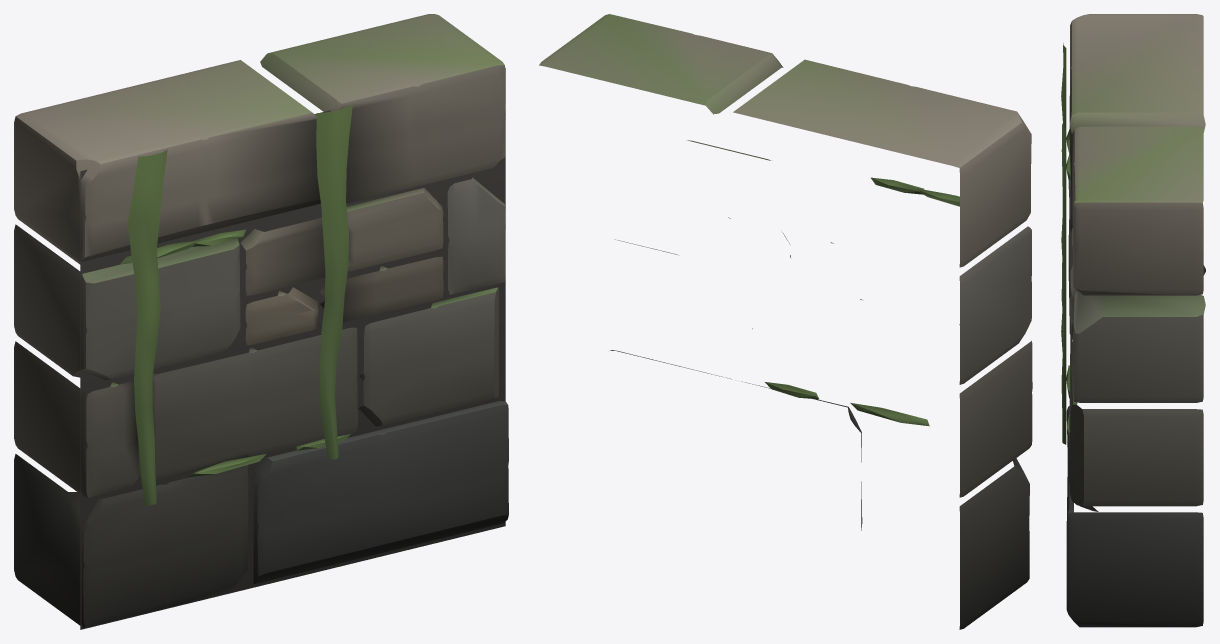
The model's file is ruins-wall-damp-v3.glb.
3 views of the same model, side by side, from view 1: azimuth 30°, elevation 25°; view 2: azimuth 150°, elevation 25°; view 3: azimuth 270°, elevation 25° (orthographic). The views are drawn at different scales.
Visible parts, largest first — view 1: 0_ruins_wall_damp; view 2: 0_ruins_wall_damp; view 3: 0_ruins_wall_damp.
Boxes of the visible parts, x1=… form: 0_ruins_wall_damp: x1=14, y1=14, x2=508, y2=629; 0_ruins_wall_damp: x1=539, y1=14, x2=1032, y2=629; 0_ruins_wall_damp: x1=1061, y1=14, x2=1205, y2=627.
Bounding box in the file's own units: 1.98 × 2.07 × 0.6354.
